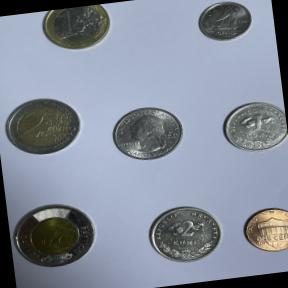coin: (7, 197, 104, 272), (0, 90, 91, 161), (140, 199, 231, 270), (103, 98, 192, 168), (35, 3, 119, 56), (193, 0, 258, 47), (238, 203, 288, 258)
